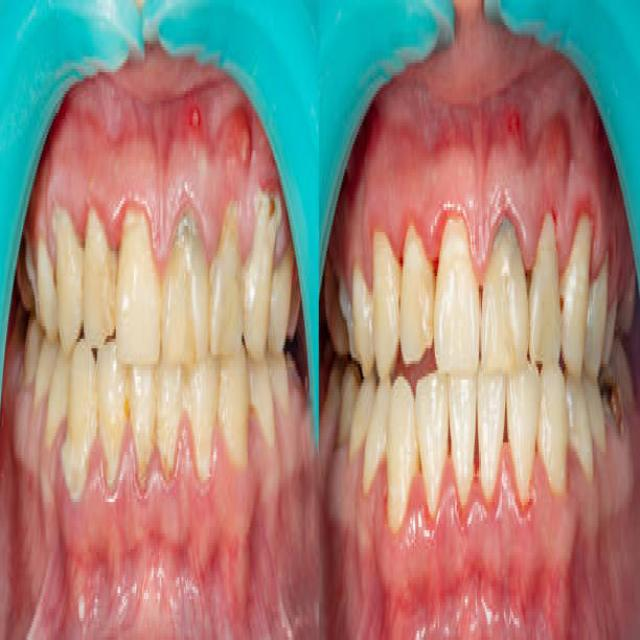caries: (602, 357, 630, 449)
